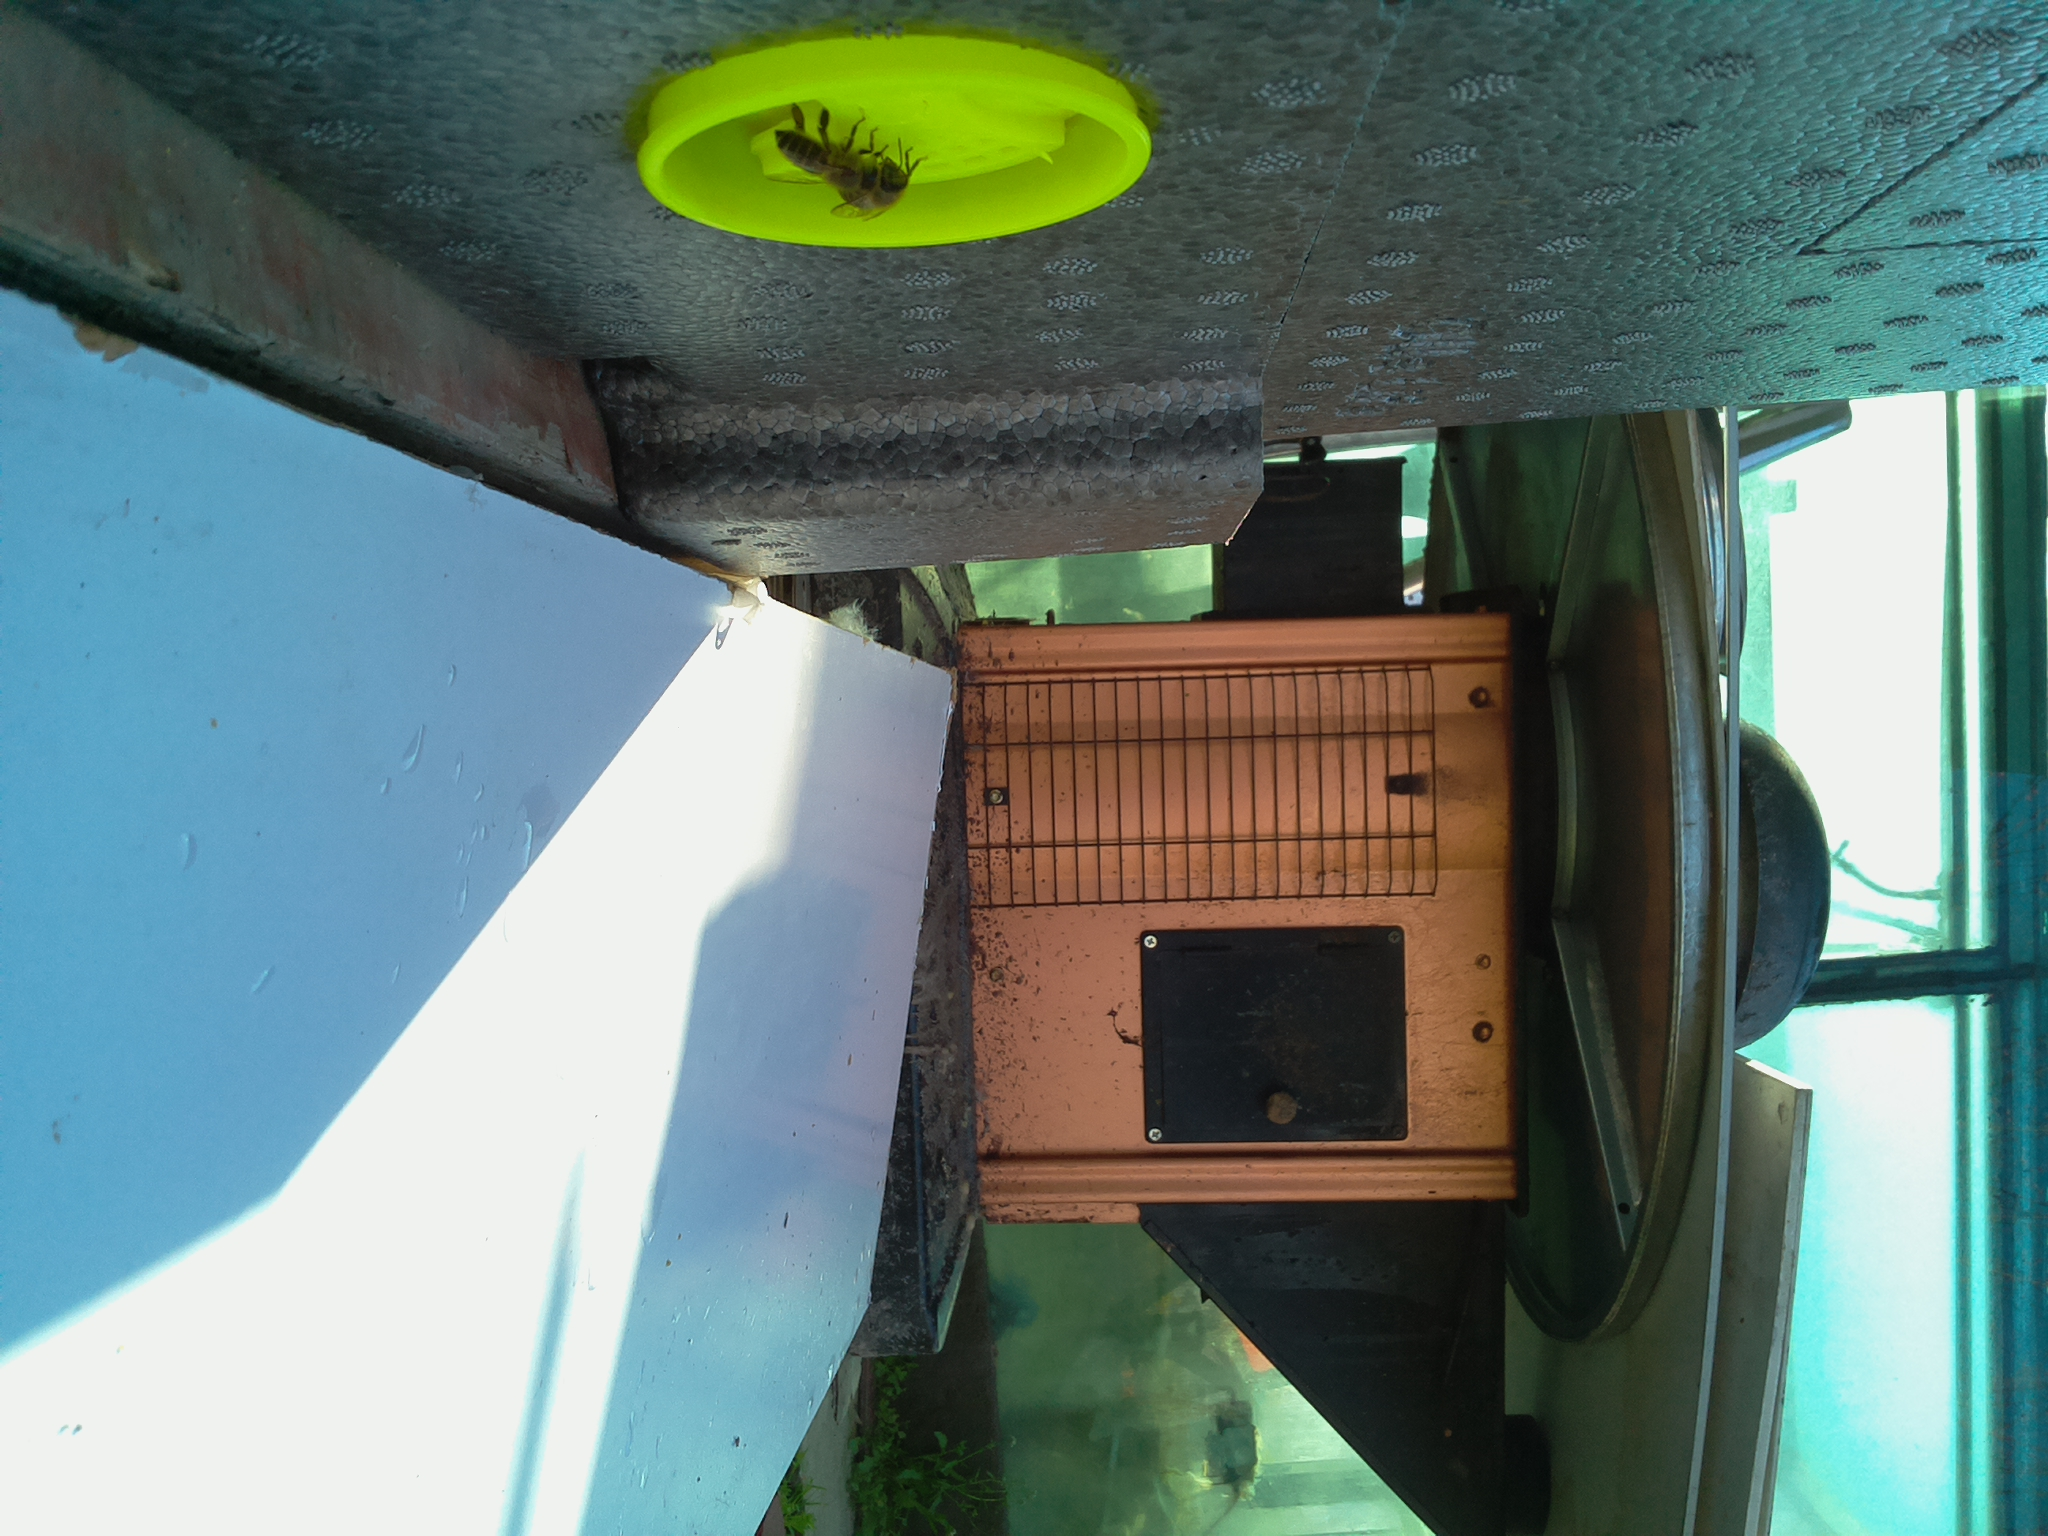bee: (772, 117, 886, 197)
